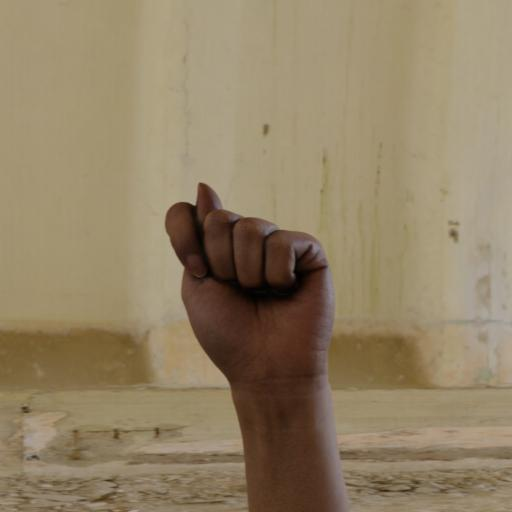T: (145, 116, 416, 473)
